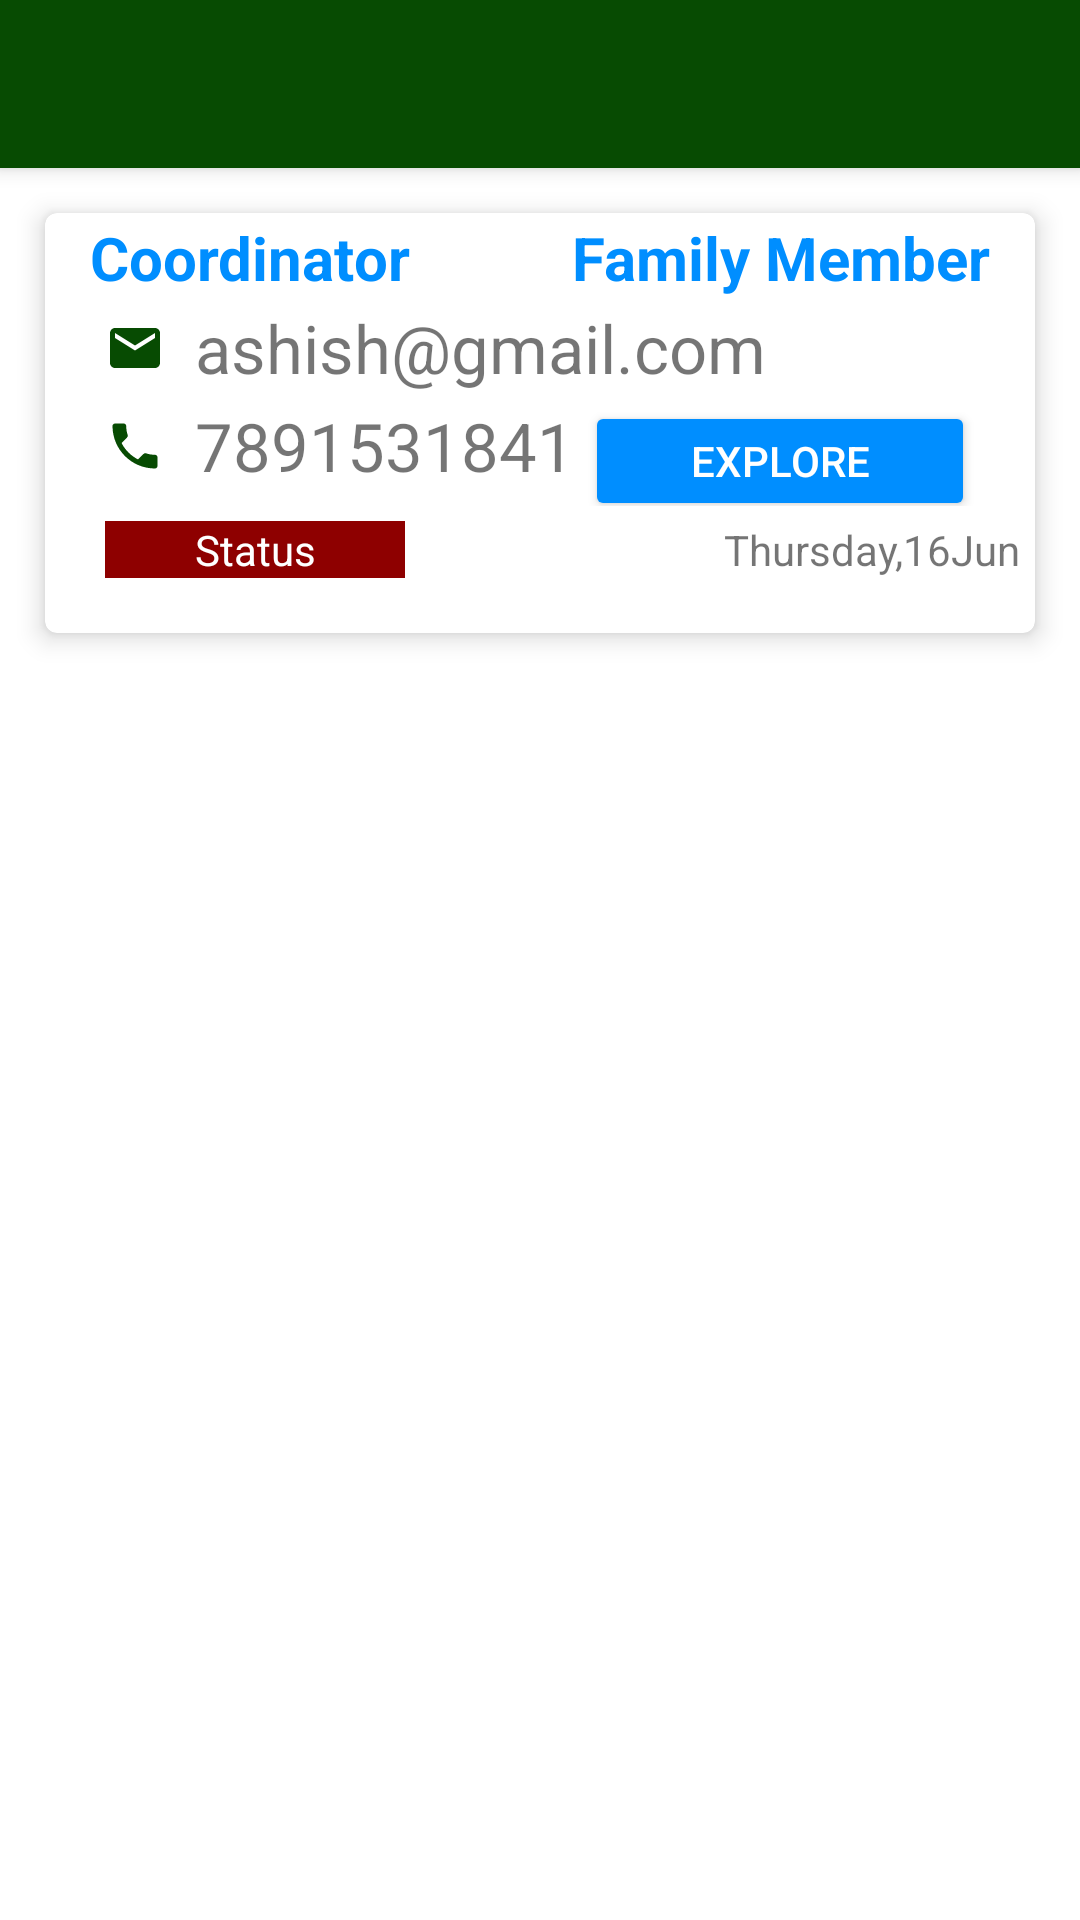

Icons on this 1080 x 1920 Android screen, each with the point to tap as [x,y]:
call: [135,446]
email: [135,348]
